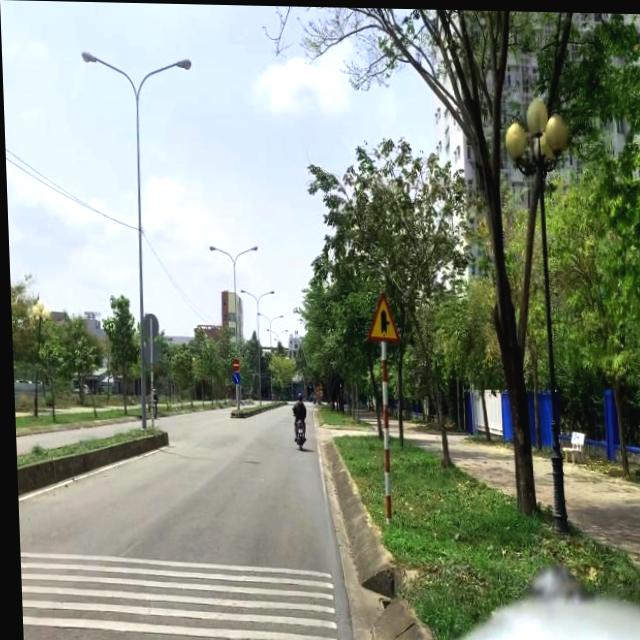Cam di nguoc chieu: (230, 357, 237, 369)
Giao nhau voi duong khong uu tien ben phai: (364, 289, 398, 341), (315, 380, 320, 388)
Toc do toi da cho phep: (316, 388, 320, 395)
Vong chuong ngai vat sang phai: (230, 371, 238, 383)
